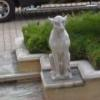Statue: (36, 7, 76, 83)
